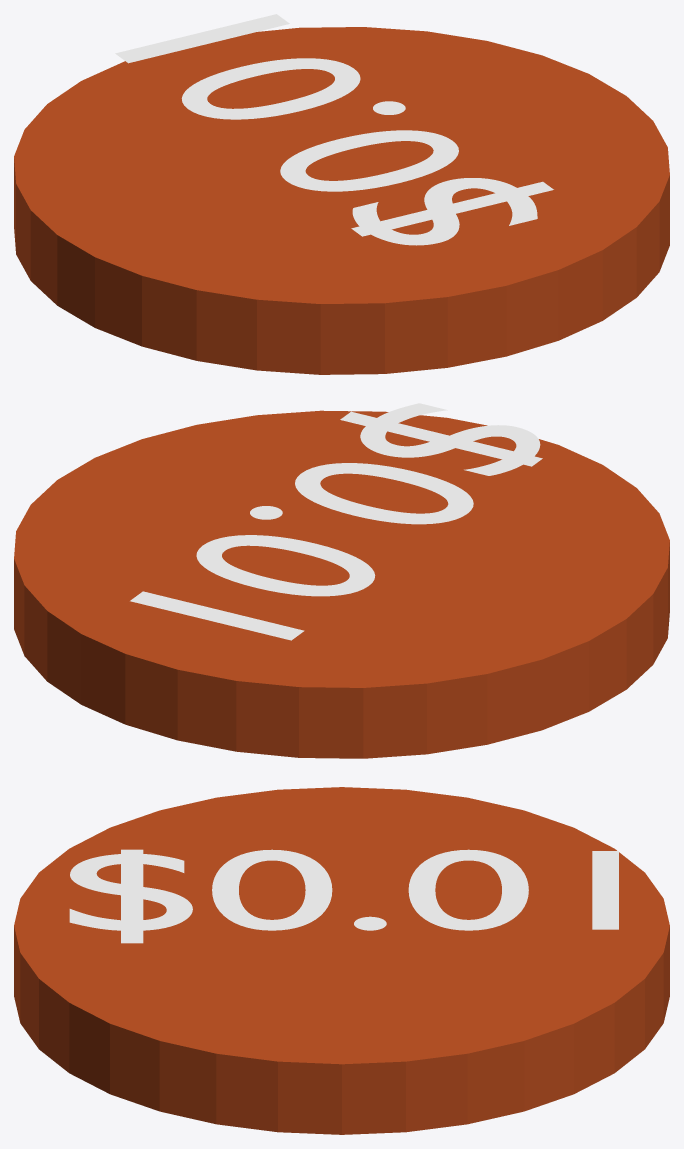
File: Penny.fbx
3 views of the same model, one above another, from view 1: azimuth 30°, elevation 25°; view 2: azimuth 150°, elevation 25°; view 3: azimuth 270°, elevation 25° (orthographic).
Visible parts, largest first — view 1: Cylinder; view 2: Cylinder; view 3: Cylinder.
Part boxes in pixels (box(x1,y1,x2,y2)): Cylinder: box(14, 14, 669, 374); Cylinder: box(14, 403, 669, 758); Cylinder: box(14, 787, 669, 1134).
Size of the model in its own units: 1.2 by 0.2069 by 1.2.
